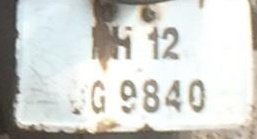character: (160, 23, 180, 60), (141, 78, 159, 113), (187, 77, 204, 114), (164, 79, 182, 113), (89, 78, 105, 113), (146, 26, 159, 61)
